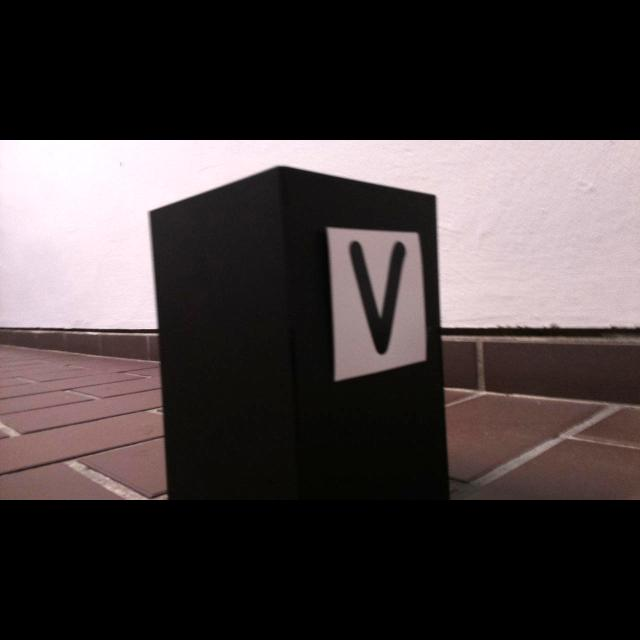V: (351, 243, 406, 354)
